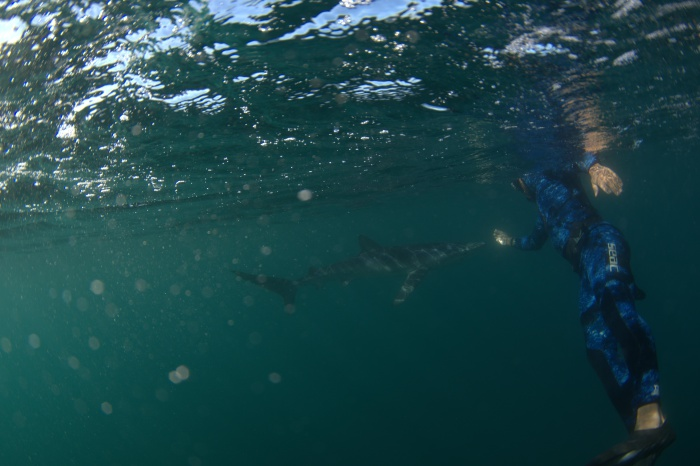Azul: (217, 215, 502, 332)
